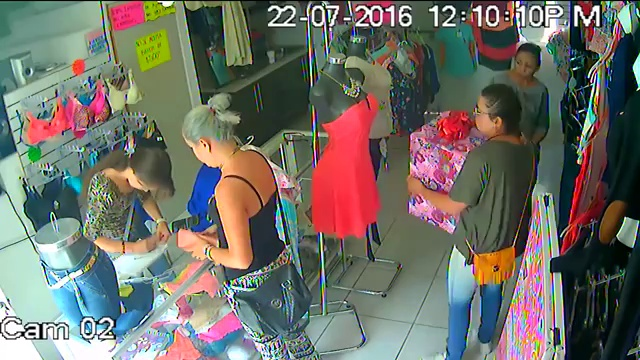face: (470, 99, 500, 132), (513, 51, 538, 80)
